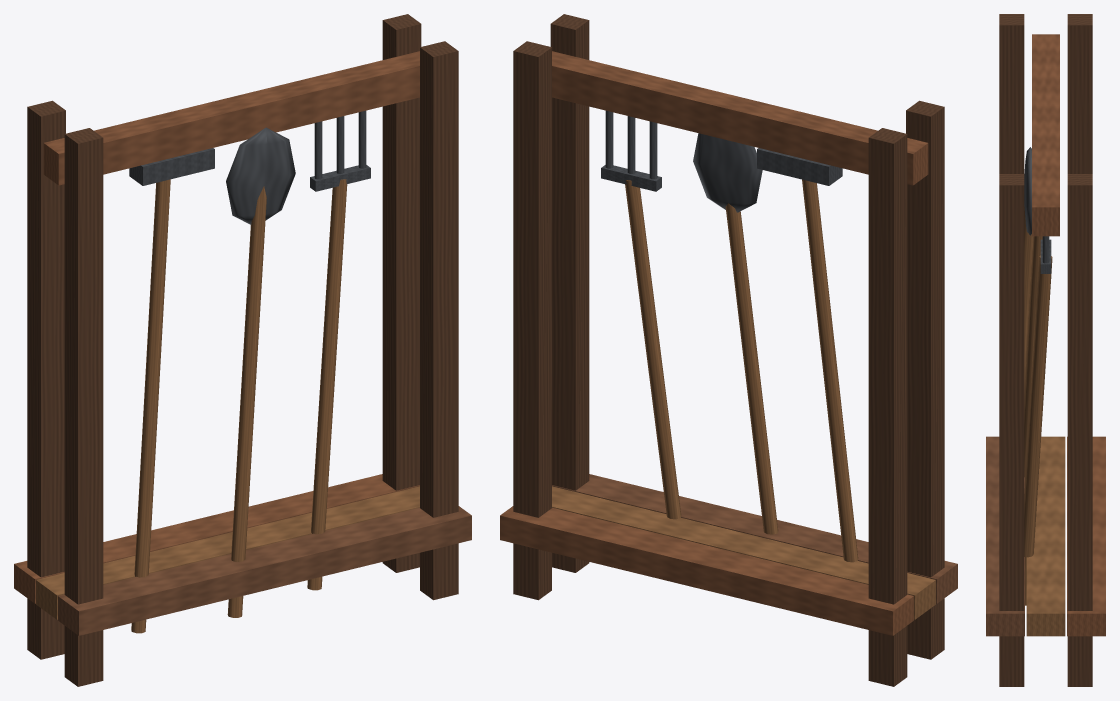
File: rack.glb
3 views of the same model, side by side, from view 1: azimuth 30°, elevation 25°; view 2: azimuth 150°, elevation 25°; view 3: azimuth 270°, elevation 25° (orthographic). The views are drawn at different scales.
Visible parts, largest first — view 1: rack; view 2: rack; view 3: rack.
Boxes of the visible parts, <box> form: rack: <box>14,14,471,686</box>; rack: <box>500,14,957,686</box>; rack: <box>986,14,1105,686</box>.
Bounding box in the file's own units: 1.33 × 1.75 × 0.3791.
1 material, 1 textured.
